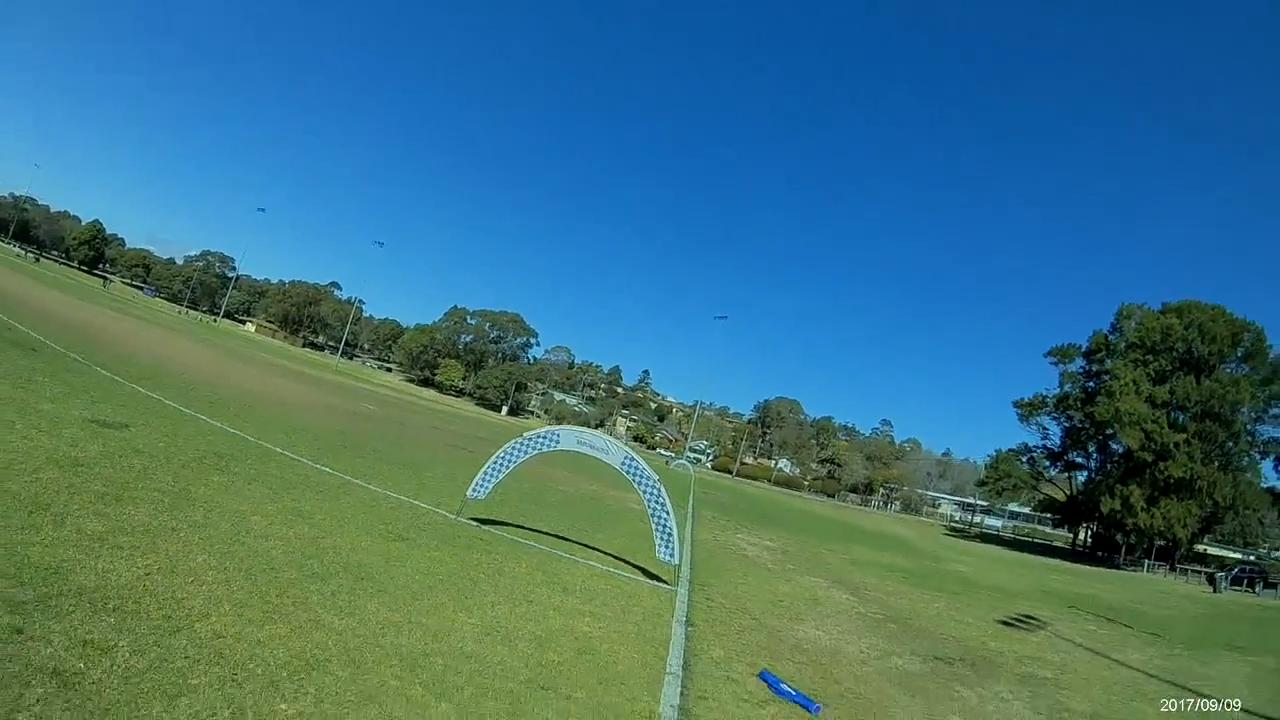gate: (466, 423, 681, 569)
